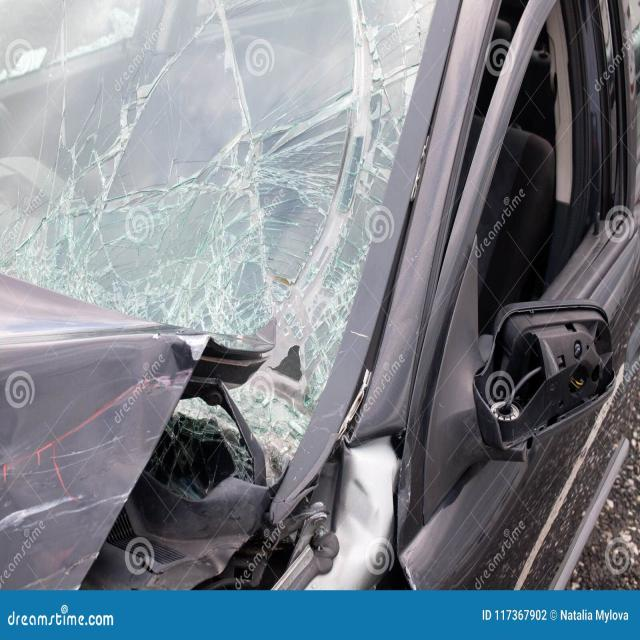crush: (0, 0, 640, 600)
